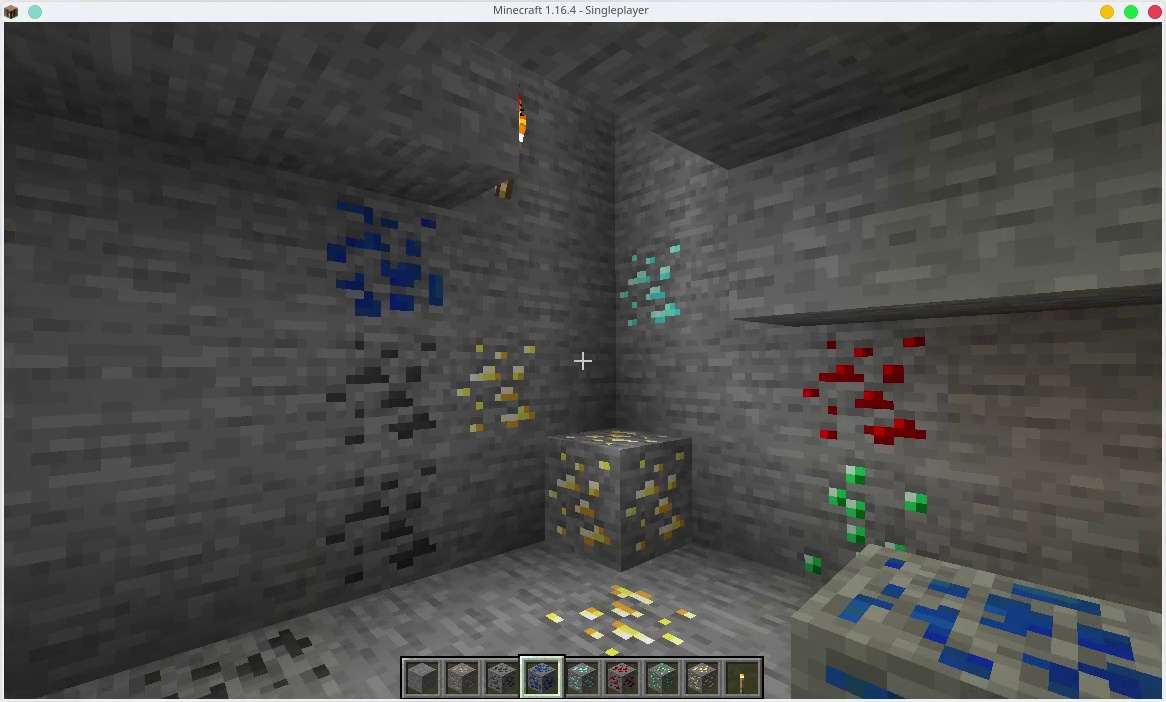gold: (550, 427, 692, 558), (537, 584, 705, 658), (440, 336, 536, 432), (688, 663, 720, 694)
